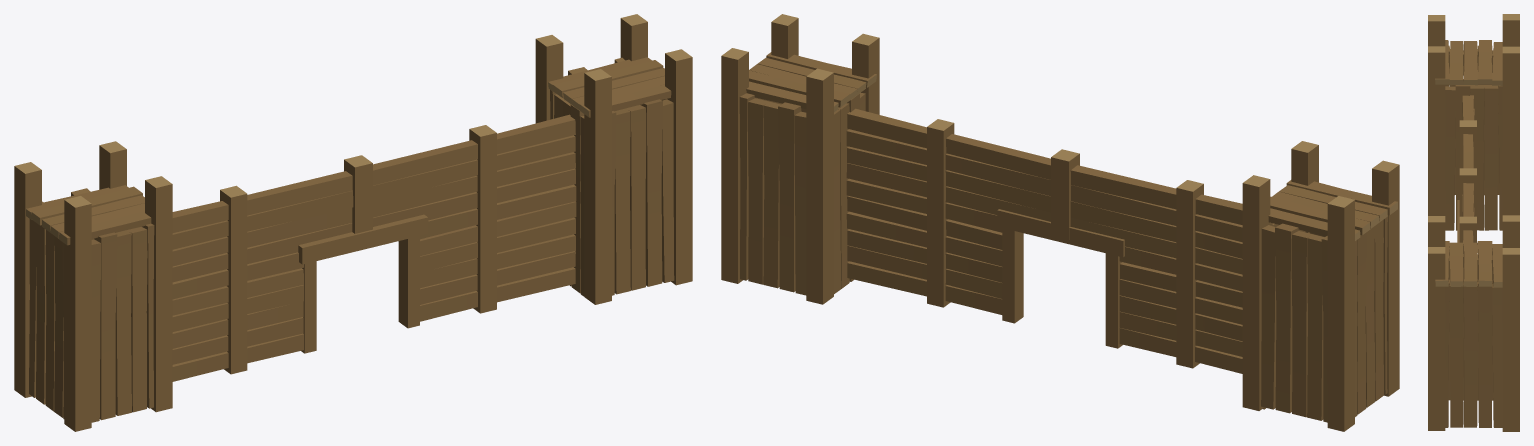
Rendered from Wall Towers.glb.
3 renders of one model, left to right at view 1: azimuth 30°, elevation 25°; view 2: azimuth 150°, elevation 25°; view 3: azimuth 270°, elevation 25°, orthographic. The views are drawn at different scales.
Parts seen in each view (by area): view 1: Wall Towers; view 2: Wall Towers; view 3: Wall Towers.
Part boxes in pixels (x1,y1,x2,y2): Wall Towers: (14,14,692,431); Wall Towers: (721,14,1399,431); Wall Towers: (1428,14,1519,431).
Bounding box in the file's own units: 1.94 × 0.6725 × 0.3135.
